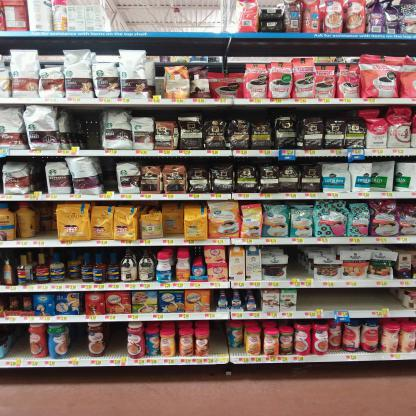Void: (149, 40, 412, 54), (111, 4, 234, 32), (301, 288, 399, 308), (81, 110, 102, 147), (104, 322, 125, 354), (210, 321, 228, 352), (36, 205, 54, 235), (70, 322, 85, 356), (11, 327, 28, 353), (290, 251, 306, 278), (108, 160, 113, 189)
